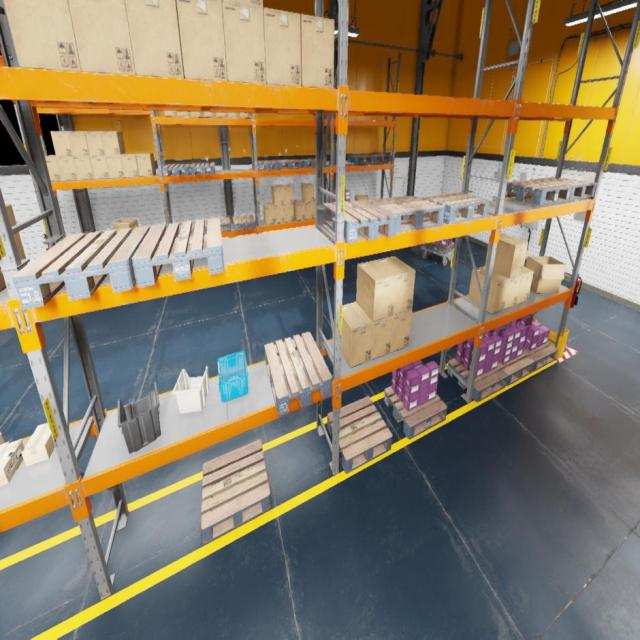box: (3, 0, 81, 71), (68, 0, 136, 75), (125, 0, 184, 78), (176, 0, 228, 81), (222, 1, 266, 84), (264, 8, 302, 86), (300, 15, 334, 89), (356, 260, 396, 321), (0, 204, 27, 292), (376, 256, 416, 315), (341, 302, 373, 368), (357, 302, 393, 360), (468, 266, 509, 314), (486, 233, 528, 278), (484, 266, 522, 309), (525, 256, 565, 293), (22, 423, 54, 466), (0, 439, 24, 487), (391, 309, 412, 352), (516, 267, 534, 304), (50, 132, 73, 156), (101, 132, 125, 154), (68, 131, 89, 156), (56, 157, 78, 180), (135, 153, 156, 177), (73, 156, 94, 180), (85, 132, 106, 156), (120, 153, 139, 177), (90, 156, 109, 179), (105, 156, 124, 178), (45, 155, 61, 181), (112, 218, 139, 233), (222, 0, 263, 7), (263, 203, 275, 225), (301, 183, 314, 203), (293, 200, 305, 221), (272, 185, 284, 206), (281, 185, 293, 205), (302, 200, 314, 219), (284, 205, 294, 222), (274, 205, 284, 222), (355, 195, 368, 201), (203, 112, 216, 118), (216, 112, 228, 118), (164, 111, 178, 116), (190, 112, 203, 117), (178, 112, 190, 117), (0, 431, 4, 445), (240, 113, 251, 118), (228, 113, 239, 118), (314, 199, 315, 218)
pallets: (12, 227, 149, 310), (201, 439, 270, 544), (132, 218, 225, 288), (264, 331, 332, 417), (328, 396, 392, 474), (384, 386, 447, 439), (323, 200, 398, 243), (368, 196, 445, 232), (448, 358, 508, 402), (422, 193, 489, 224), (505, 180, 571, 205), (531, 177, 596, 200), (492, 353, 534, 386), (519, 342, 558, 372), (204, 217, 231, 234), (232, 214, 256, 232), (425, 242, 455, 255), (162, 164, 190, 177), (190, 162, 215, 175), (176, 222, 195, 238), (276, 160, 302, 170), (258, 160, 280, 171), (300, 159, 326, 168), (366, 154, 392, 162), (347, 156, 374, 163), (85, 232, 104, 236)
